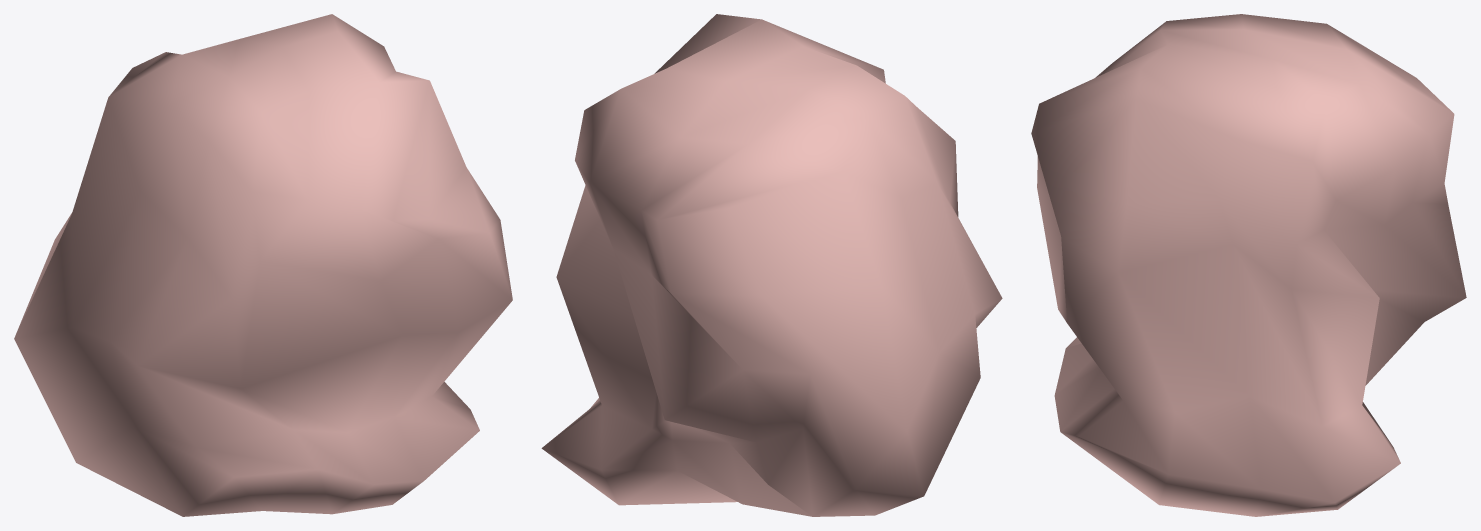
The model's file is Rock3.fbx.
3 views of the same model, side by side, from view 1: azimuth 30°, elevation 25°; view 2: azimuth 150°, elevation 25°; view 3: azimuth 270°, elevation 25° (orthographic).
Parts seen in each view (by area): view 1: Cube; view 2: Cube; view 3: Cube.
Boxes of the visible parts, bbox=[...] form: Cube: bbox=[14, 14, 512, 516]; Cube: bbox=[541, 14, 1002, 516]; Cube: bbox=[1031, 14, 1466, 516].
Size of the model in its own units: 452 by 519 by 474.
